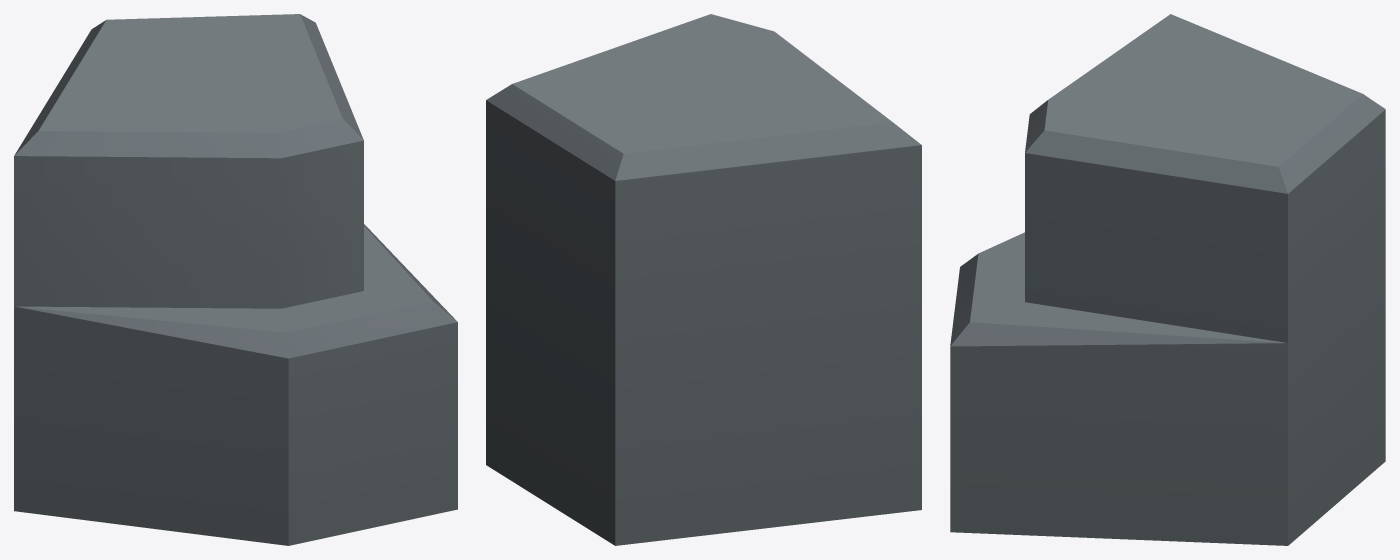
Rendered from Rock_1_B_Color1.glb.
The picture shows the model from 3 angles, left to right: view 1: azimuth 30°, elevation 25°; view 2: azimuth 150°, elevation 25°; view 3: azimuth 270°, elevation 25°; orthographic projection. The views are drawn at different scales.
Visible parts, largest first — view 1: Rock_1_B_Color1; view 2: Rock_1_B_Color1; view 3: Rock_1_B_Color1.
Boxes of the visible parts, bbox=[...] form: Rock_1_B_Color1: bbox=[14, 14, 457, 545]; Rock_1_B_Color1: bbox=[486, 14, 921, 545]; Rock_1_B_Color1: bbox=[950, 14, 1385, 545].
Bounding box in the file's own units: 0.5511 × 0.5403 × 0.5778.
Materials: 1 (1 with a texture image).
